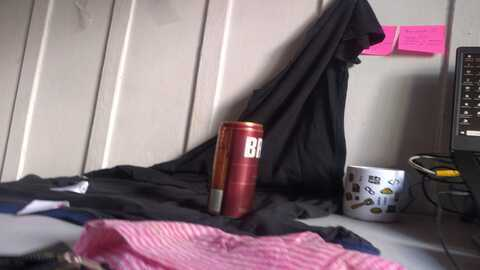duplo_malte: (210, 114, 269, 233)
